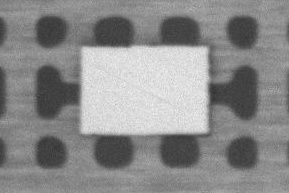DIE_CRACK: (139, 43, 270, 73)
